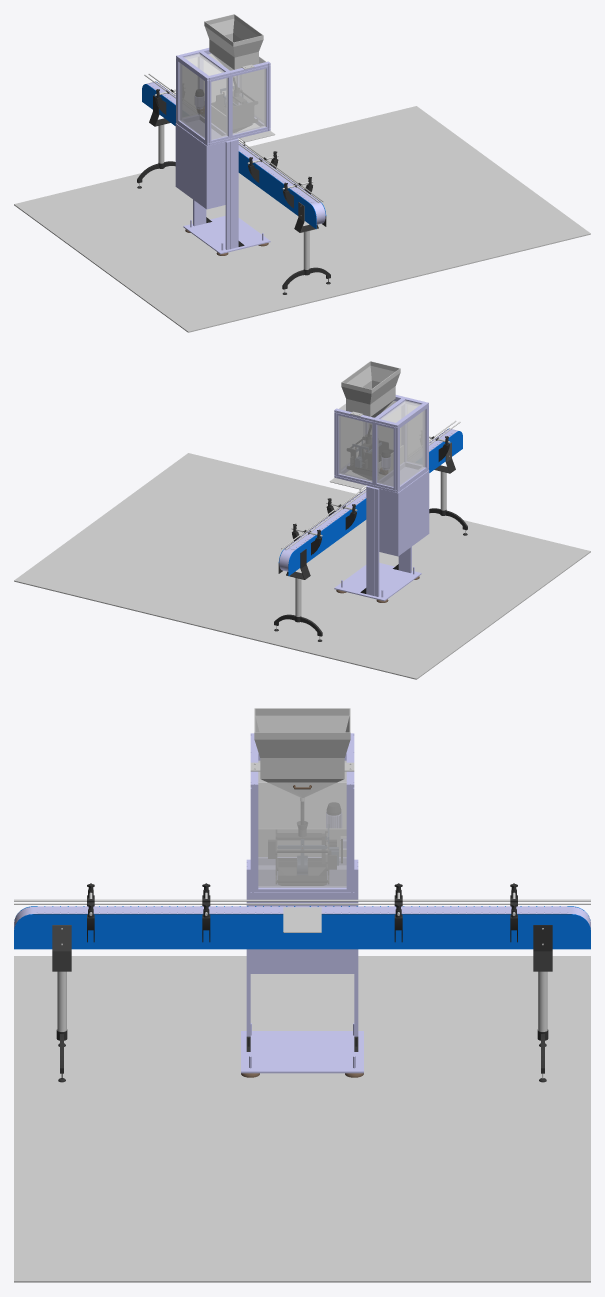
The model's file is Scene_Remplissage_FBX.fbx.
The picture shows the model from 3 angles, top to bottom: view 1: azimuth 30°, elevation 25°; view 2: azimuth 150°, elevation 25°; view 3: azimuth 270°, elevation 25°; orthographic projection. The views are drawn at different scales.
Visible parts, largest first — view 1: plan-post005, cadre_convoyeur_remplissage004, Cadre_Machine_Remplissage001, Cadre_Machine_Remplissage002, Tremie_Remplissage, Cadre_Machine_Remplissage005, plaque_Laterale_remplissage001, Plaque_deriere_Remplissage, Cadre_Machine_Remplissage006, chain_convoyeur_Remplissage, Plaque_Lateral_2_Remplissage001, M\X2\00E9\X0\canisme_Remplissage (+3 smaller); view 2: plan-post005, cadre_convoyeur_remplissage004, Cadre_Machine_Remplissage001, Cadre_Machine_Remplissage002, Tremie_Remplissage, Cadre_Machine_Remplissage005, plaque_Laterale_remplissage, Plaque_deriere_Remplissage, Cadre_Machine_Remplissage006, chain_convoyeur_Remplissage, Plaque_Lateral_2_Remplissage, Plaque_frontale_remplissage (+3 smaller); view 3: plan-post005, cadre_convoyeur_remplissage004, Plaque_frontale_remplissage, Tremie_Remplissage, Cadre_Machine_Remplissage002, Cadre_Machine_Remplissage001, Cadre_Machine_Remplissage006, chain_convoyeur_Remplissage, Plaque_deriere_Remplissage, M\X2\00E9\X0\canisme_Remplissage, M\X2\00E9\X0\canisme_Remplissage001.
Boxes of the visible parts, bbox=[...] form: plan-post005: bbox=[14, 106, 590, 332]; cadre_convoyeur_remplissage004: bbox=[142, 73, 326, 275]; Cadre_Machine_Remplissage001: bbox=[176, 48, 270, 145]; Cadre_Machine_Remplissage002: bbox=[183, 139, 270, 255]; Tremie_Remplissage: bbox=[204, 14, 263, 76]; Cadre_Machine_Remplissage005: bbox=[175, 123, 207, 209]; plaque_Laterale_remplissage001: bbox=[232, 68, 266, 134]; Plaque_deriere_Remplissage: bbox=[179, 62, 204, 138]; Cadre_Machine_Remplissage006: bbox=[176, 120, 237, 209]; chain_convoyeur_Remplissage: bbox=[146, 82, 325, 224]; Plaque_Lateral_2_Remplissage001: bbox=[211, 78, 227, 139]; M\X2\00E9\X0\canisme_Remplissage: bbox=[211, 88, 257, 127]; plan-post005: bbox=[14, 453, 590, 679]; cadre_convoyeur_remplissage004: bbox=[278, 420, 462, 622]; Cadre_Machine_Remplissage001: bbox=[334, 395, 428, 492]; Cadre_Machine_Remplissage002: bbox=[334, 486, 421, 602]; Tremie_Remplissage: bbox=[341, 361, 400, 423]; Cadre_Machine_Remplissage005: bbox=[397, 470, 429, 556]; plaque_Laterale_remplissage: bbox=[338, 415, 372, 481]; Plaque_deriere_Remplissage: bbox=[400, 409, 425, 485]; Cadre_Machine_Remplissage006: bbox=[367, 467, 428, 556]; chain_convoyeur_Remplissage: bbox=[279, 429, 458, 571]; Plaque_Lateral_2_Remplissage: bbox=[377, 425, 393, 486]; Plaque_frontale_remplissage: bbox=[338, 403, 364, 469]; plan-post005: bbox=[14, 956, 590, 1282]; cadre_convoyeur_remplissage004: bbox=[14, 883, 590, 1040]; Plaque_frontale_remplissage: bbox=[258, 782, 346, 887]; Tremie_Remplissage: bbox=[250, 708, 354, 801]; Cadre_Machine_Remplissage002: bbox=[241, 859, 363, 1077]; Cadre_Machine_Remplissage001: bbox=[250, 733, 354, 895]; Cadre_Machine_Remplissage006: bbox=[250, 848, 354, 973]; chain_convoyeur_Remplissage: bbox=[14, 906, 590, 929]; Plaque_deriere_Remplissage: bbox=[258, 760, 346, 838]; M\X2\00E9\X0\canisme_Remplissage: bbox=[268, 821, 336, 883]; M\X2\00E9\X0\canisme_Remplissage001: bbox=[278, 858, 326, 885].
Size of the model in its own units: 400 by 198 by 300.
